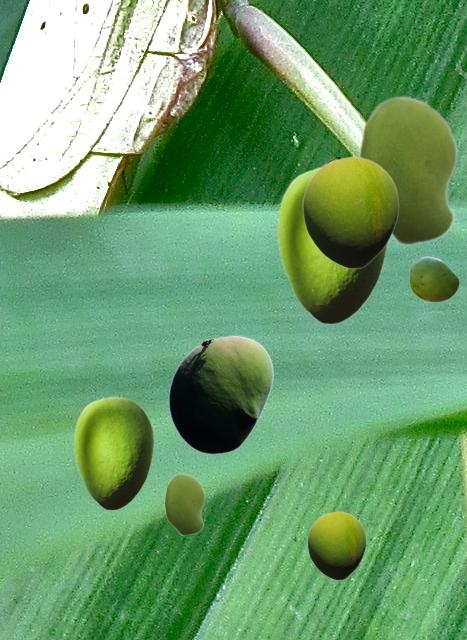green_mango: (276, 165, 388, 323), (357, 95, 457, 246), (168, 335, 273, 453), (302, 156, 398, 268), (73, 396, 153, 509), (307, 511, 365, 579), (164, 473, 204, 535), (409, 256, 458, 301)
